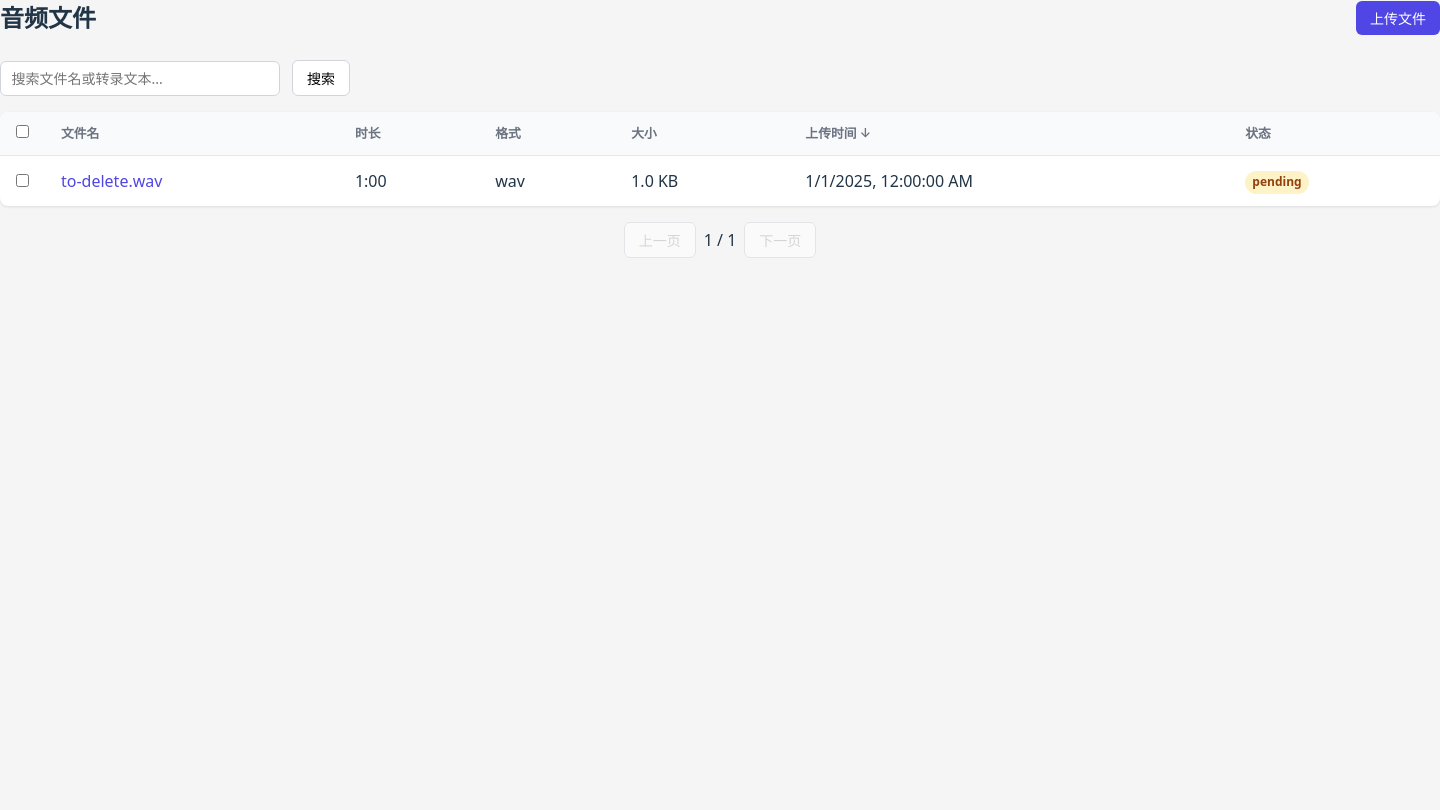
Test: AudioListPage › shows delete confirmation dialog with correct content
Expected: the link "to-delete.wav" is shown, [61,170,162,192]
Click the checkbox named "选择 to-delete.wav" at (22,180), box [16,174,29,187]
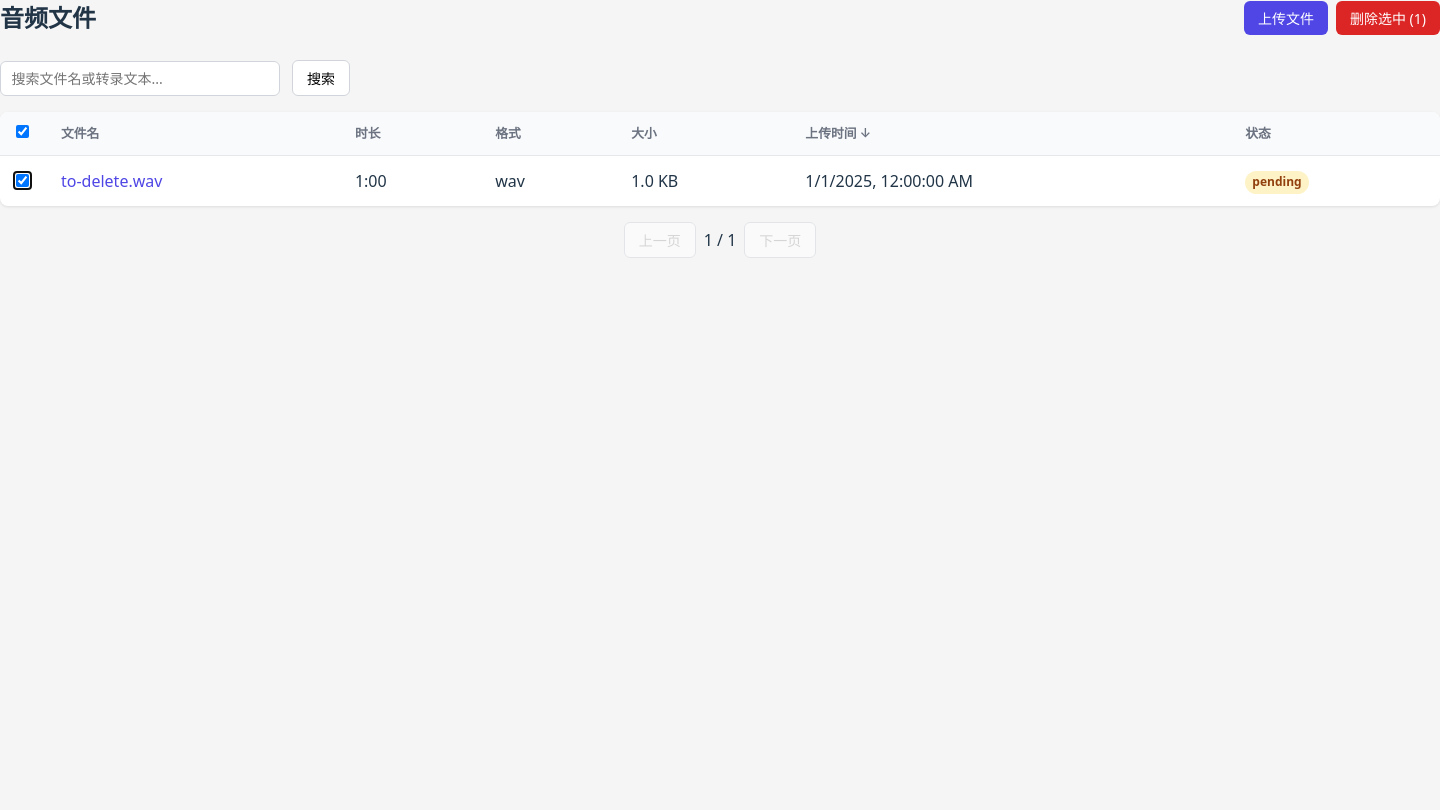
Click the button "删除选中 (1)" at (1388,18), box [1336,1,1439,35]
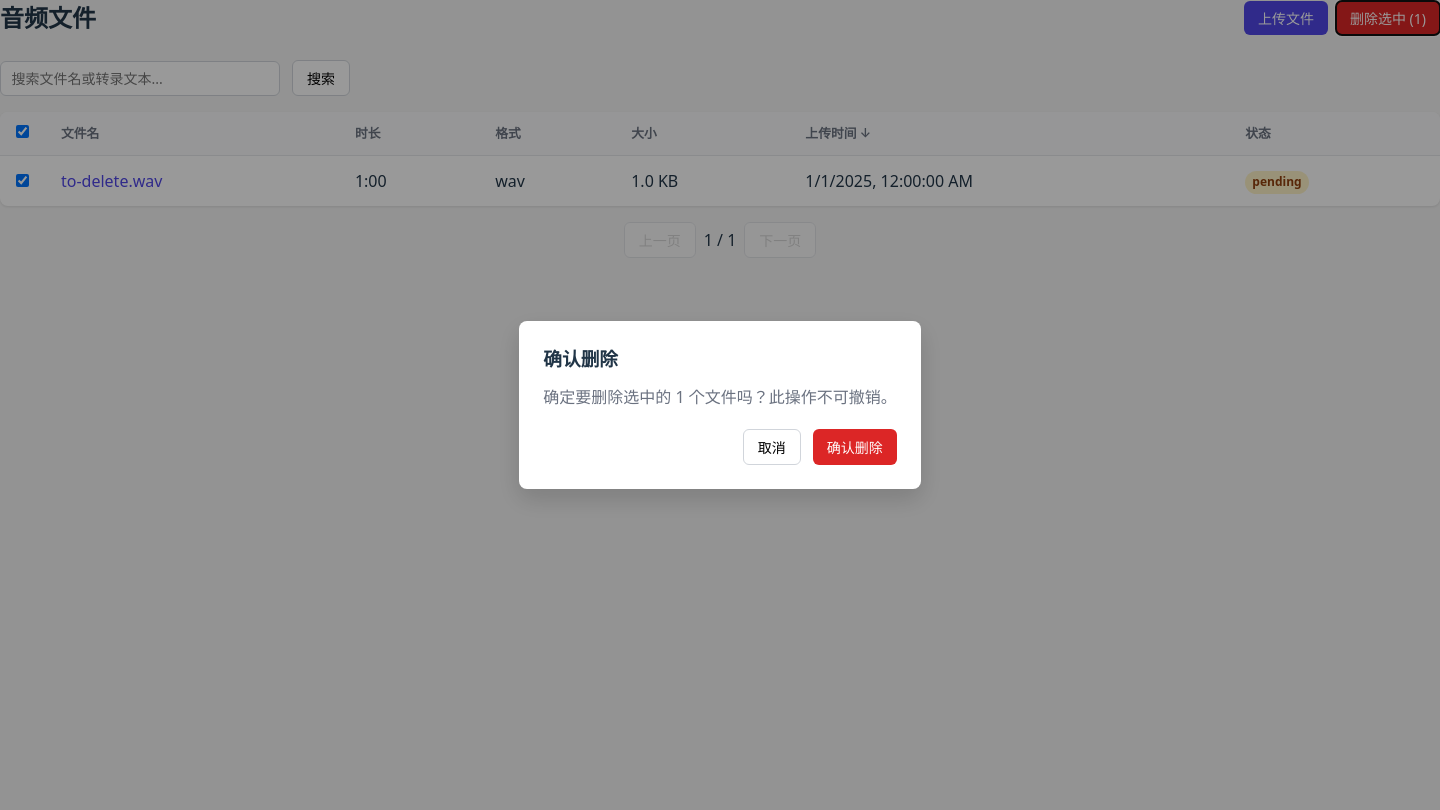
Expected: the text "确定要删除选中的 1 个文件吗？此操作不可撤销。" is shown, [543,385,897,409]
